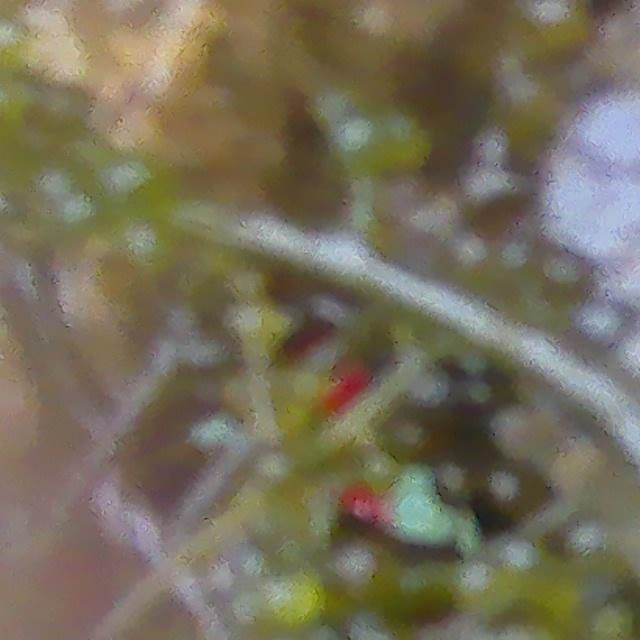SeaGrape: (470, 449, 556, 519), (527, 246, 607, 313), (373, 414, 426, 455), (433, 466, 481, 507)
